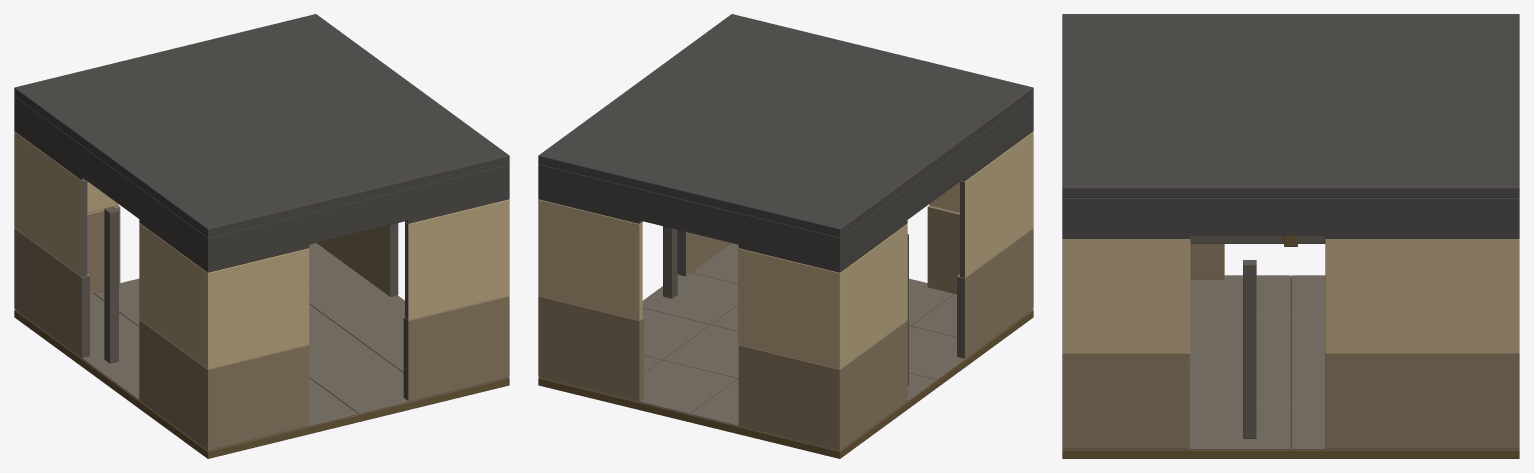
The model's file is gen-tee.glb.
3 views of the same model, side by side, from view 1: azimuth 30°, elevation 25°; view 2: azimuth 150°, elevation 25°; view 3: azimuth 270°, elevation 25° (orthographic). The views are drawn at different scales.
Parts seen in each view (by area): view 1: THE TEE; view 2: THE TEE; view 3: THE TEE.
Part boxes in pixels (x1,y1,x2,y2): THE TEE: (14, 14, 509, 458); THE TEE: (538, 14, 1033, 458); THE TEE: (1062, 14, 1519, 458).
Bounding box in the file's own units: 3.6 × 2.62 × 4.
